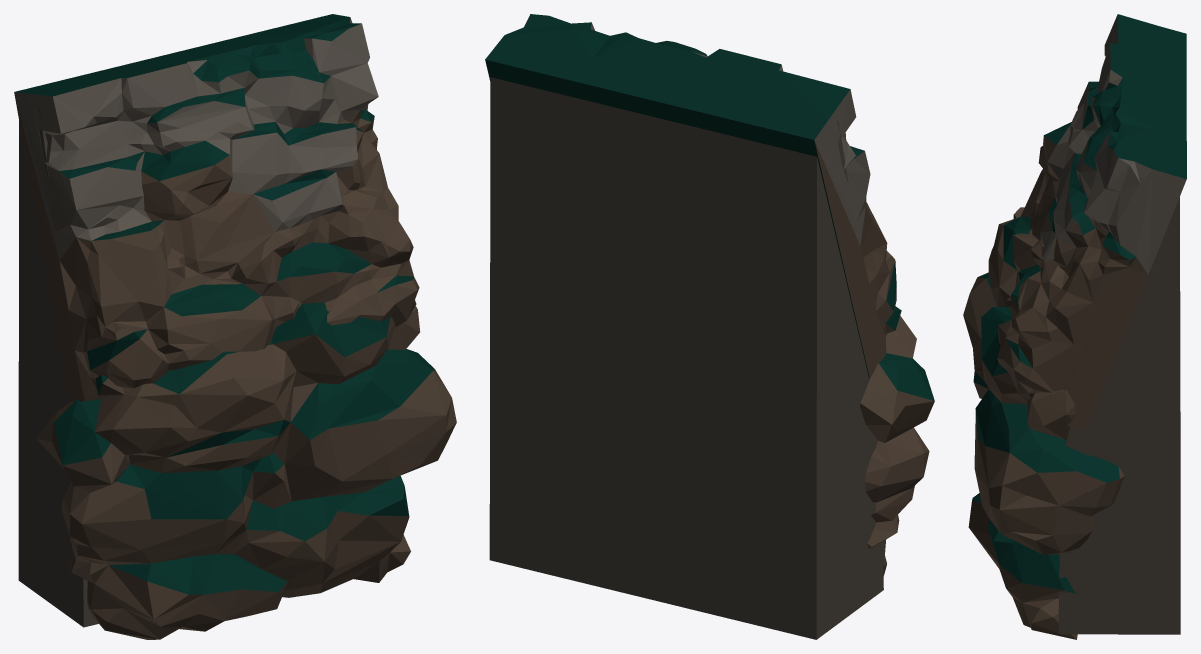
Rendered from MCastle_Foundations_01.FBX.
3 renders of one model, left to right at view 1: azimuth 30°, elevation 25°; view 2: azimuth 150°, elevation 25°; view 3: azimuth 270°, elevation 25°, orthographic. The views are drawn at different scales.
Visible parts, largest first — view 1: MCastle_Foundations_01_Rocks_LOD0; view 2: MCastle_Foundations_01_Rocks_LOD0; view 3: MCastle_Foundations_01_Rocks_LOD0.
Boxes of the visible parts, bbox=[...] form: MCastle_Foundations_01_Rocks_LOD0: bbox=[14, 14, 456, 639]; MCastle_Foundations_01_Rocks_LOD0: bbox=[485, 14, 934, 639]; MCastle_Foundations_01_Rocks_LOD0: bbox=[963, 14, 1186, 639].
Size of what is drawn, in the model's own units: 4.77 by 6.36 by 2.61.
